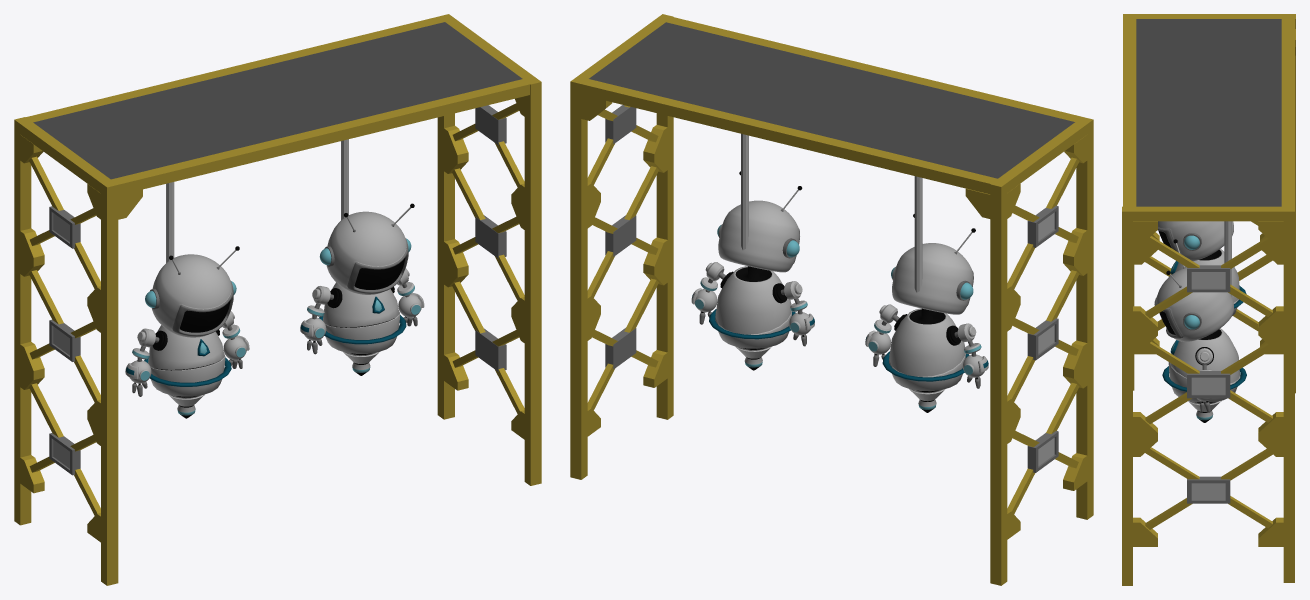
File: etagere robot pendu.fbx
The picture shows the model from 3 angles, left to right: view 1: azimuth 30°, elevation 25°; view 2: azimuth 150°, elevation 25°; view 3: azimuth 270°, elevation 25°; orthographic projection. The views are drawn at different scales.
Visible parts, largest first — view 1: etagere_robot_pendu; view 2: etagere_robot_pendu; view 3: etagere_robot_pendu.
Boxes of the visible parts, left/top/right/bottom form: etagere_robot_pendu: left=14, top=14, right=541, bottom=585; etagere_robot_pendu: left=570, top=14, right=1093, bottom=585; etagere_robot_pendu: left=1122, top=14, right=1295, bottom=585.
Bounding box in the file's own units: 2.71 × 2.4 × 1.01.
